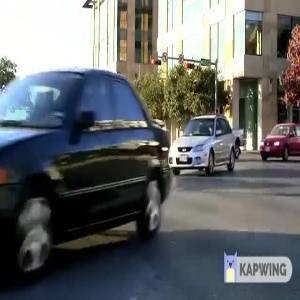car: (1, 66, 169, 272), (168, 110, 237, 186), (257, 116, 300, 164)
